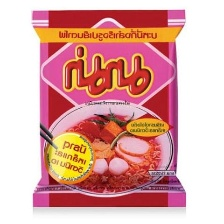snack: (23, 4, 195, 213)
